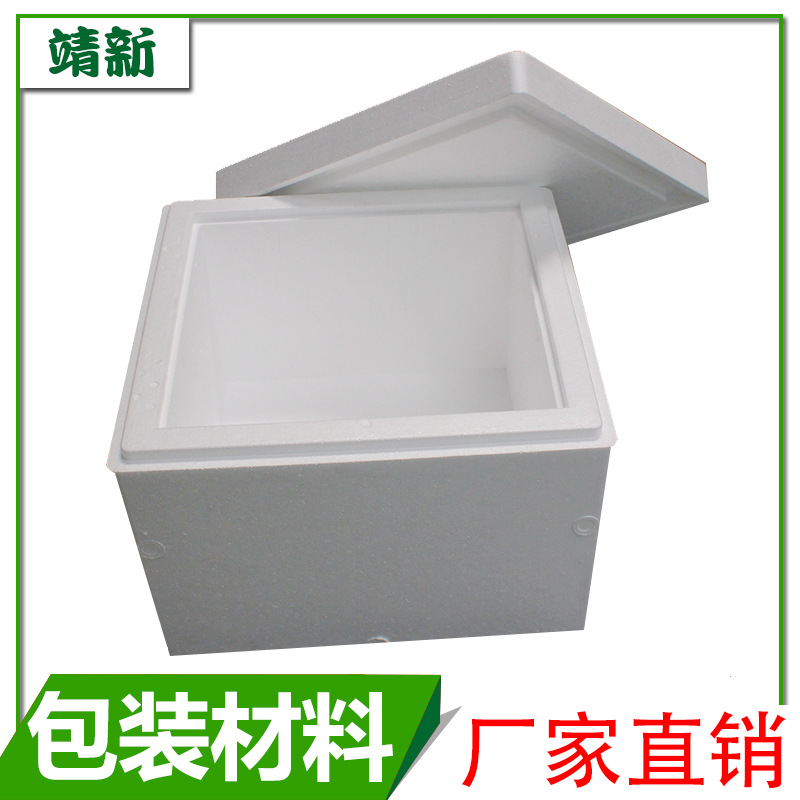泡沫箱: (108, 52, 707, 656)
